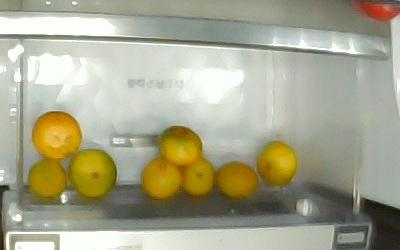tangerine: (31, 110, 82, 159), (68, 149, 116, 198), (157, 124, 202, 166), (258, 141, 298, 184), (141, 158, 182, 199), (216, 162, 258, 198), (28, 159, 66, 198), (182, 157, 215, 195)
